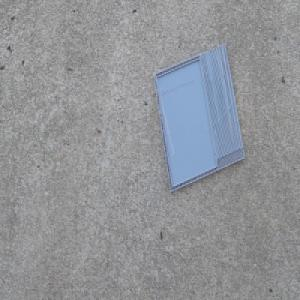PlasticPart: (152, 42, 246, 193)
